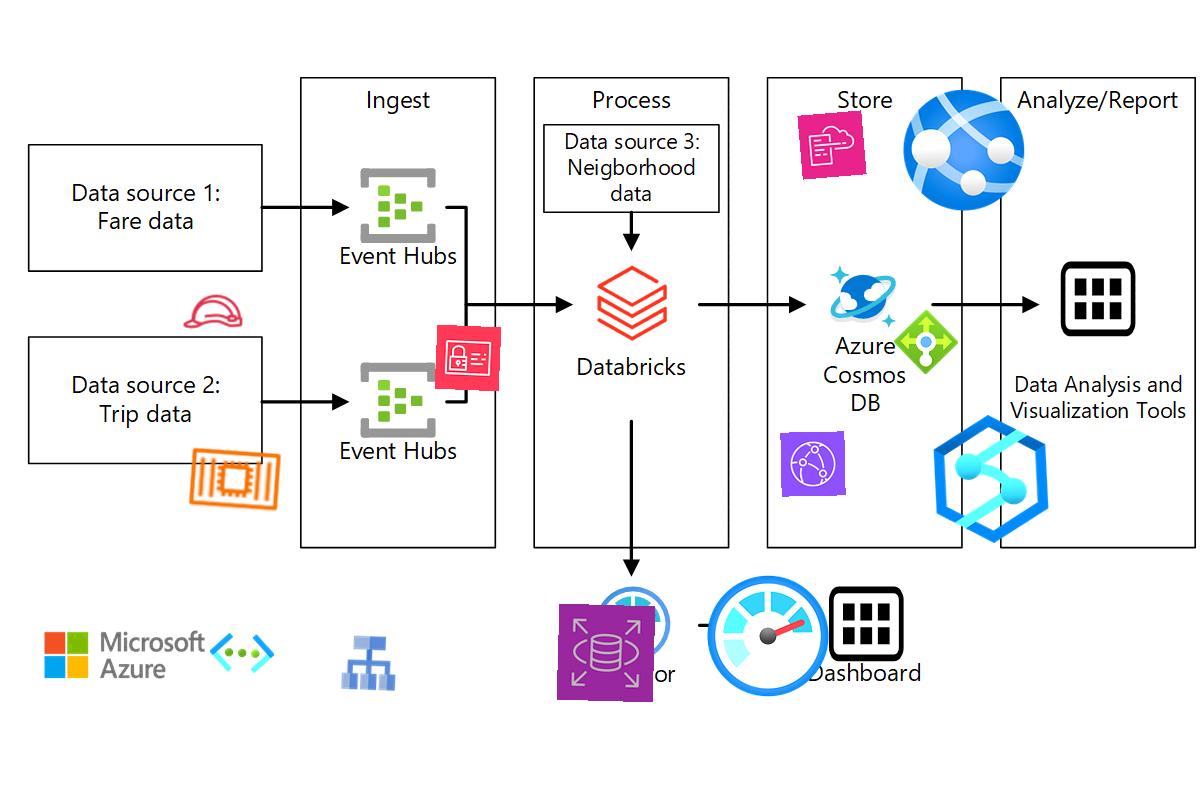aws_amazon_cloudfront: (780, 431, 846, 497)
aws_amazon_rds: (556, 603, 656, 703)
aws_cloudformation: (797, 110, 867, 180)
aws_elastic_container_service_container_2: (183, 427, 287, 531)
aws_identity_access_management_role: (180, 279, 246, 345)
aws_identity_and_access_management: (434, 324, 502, 392)
azure_app_services: (897, 83, 1031, 217)
azure_load_balancers: (893, 309, 959, 375)
azure_monitor: (703, 571, 833, 701)
azure_synapse_analytics: (923, 411, 1059, 547)
azure_virtual_networks: (208, 619, 276, 687)
gcp_cloud_load_balancing: (335, 629, 403, 697)
